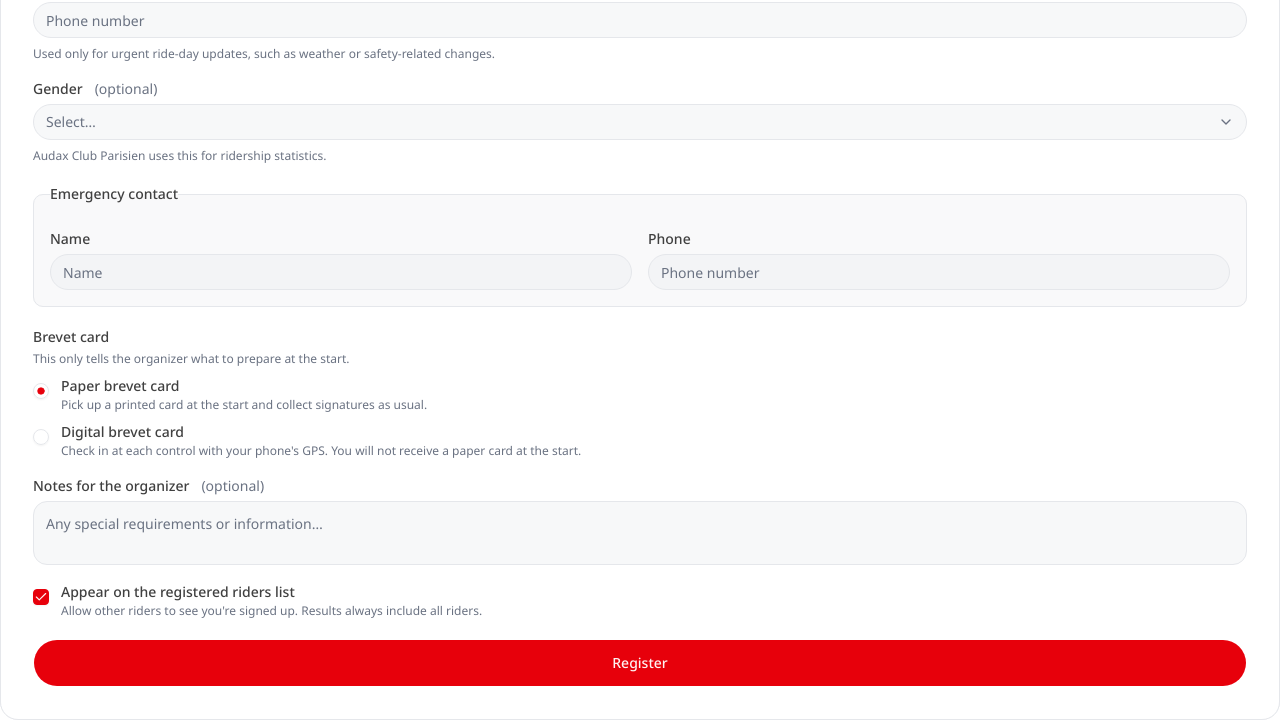
RegistrationForm › brevet card preference › labels target their own form when the form is rendered twice on a page
(page scrolled)
Click the text "Digital brevet card" at (122, 432), box [61, 425, 184, 439]
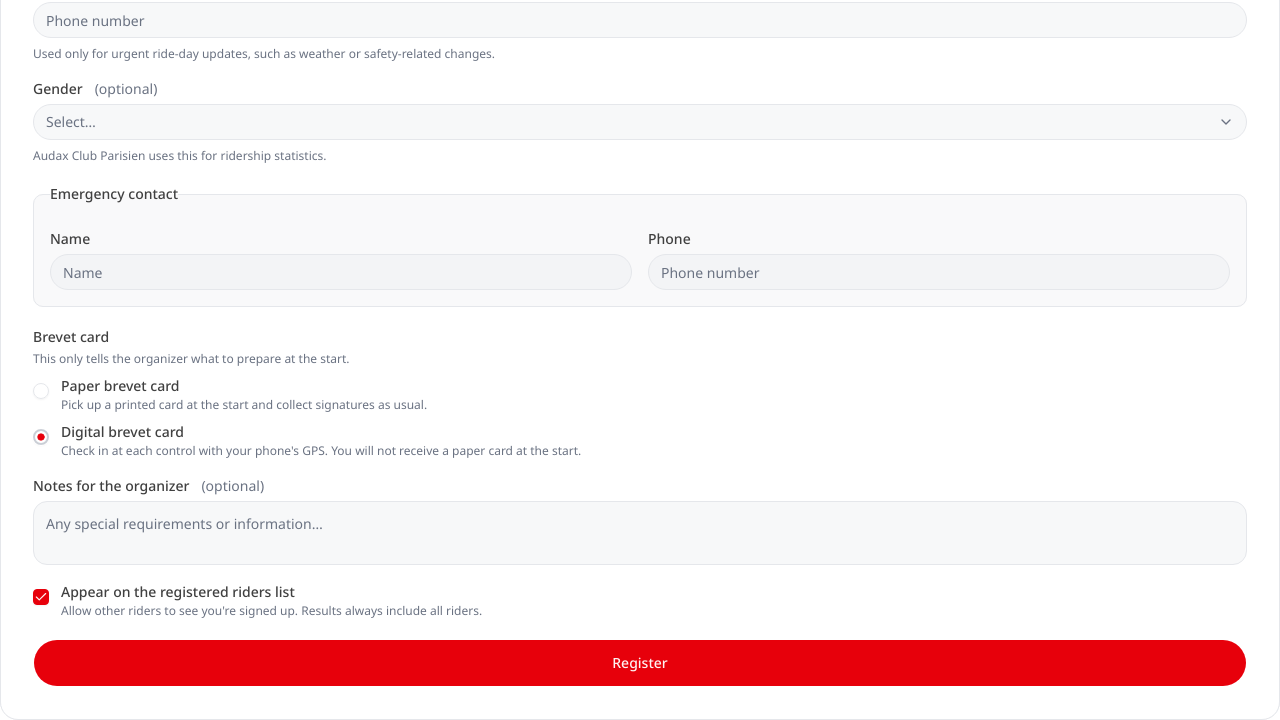
Expected: the 2nd radio button named "digital brevet card" is not checked, [33, 429, 49, 445]
Expected: the 2nd radio button named "digital brevet card" is checked, [33, 429, 49, 445]
